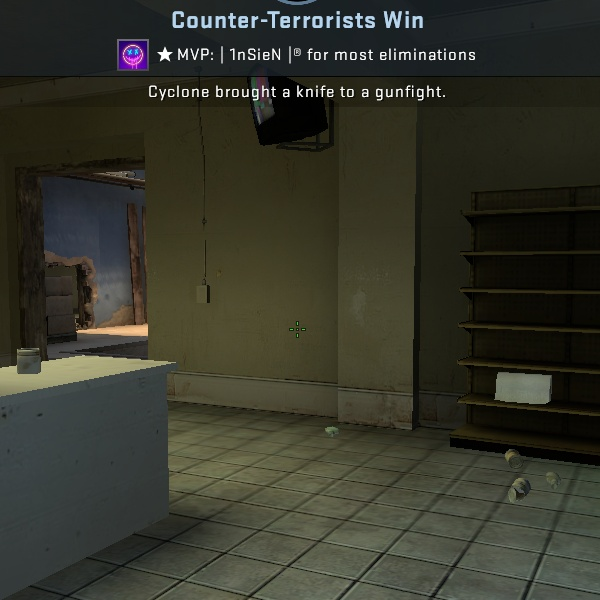t_body: (64, 254, 105, 334)
